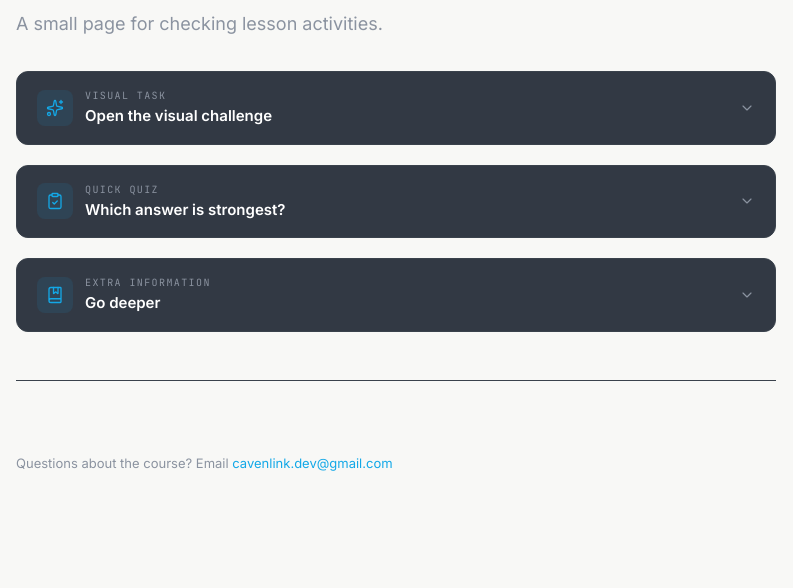
Test: LearnArticle activities › reveals a visual task and rotates its creative constraint
The width and height of the screenshot is (793, 588).
Click the text "Open the visual challenge": point(178, 116) x1=85 y1=106 x2=272 y2=125
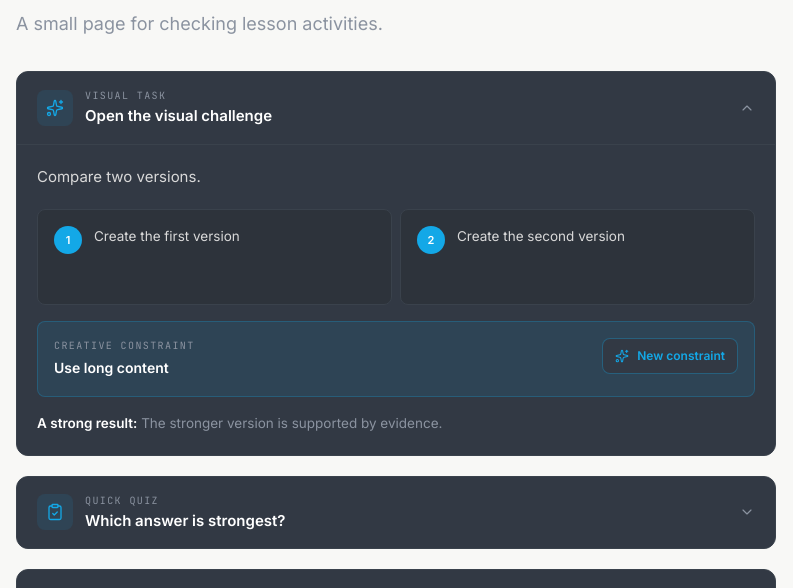
Check: the text "Use long content" is shown, box x1=54 y1=359 x2=169 y2=376
Click the button "New constraint": point(670, 356) x1=602 y1=338 x2=738 y2=374
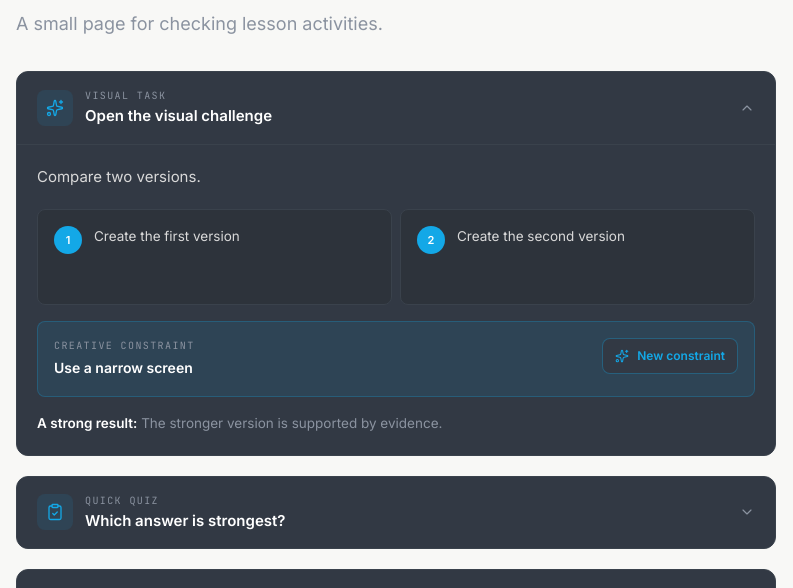
Check: the text "Use a narrow screen" is shown, box x1=54 y1=359 x2=193 y2=376
